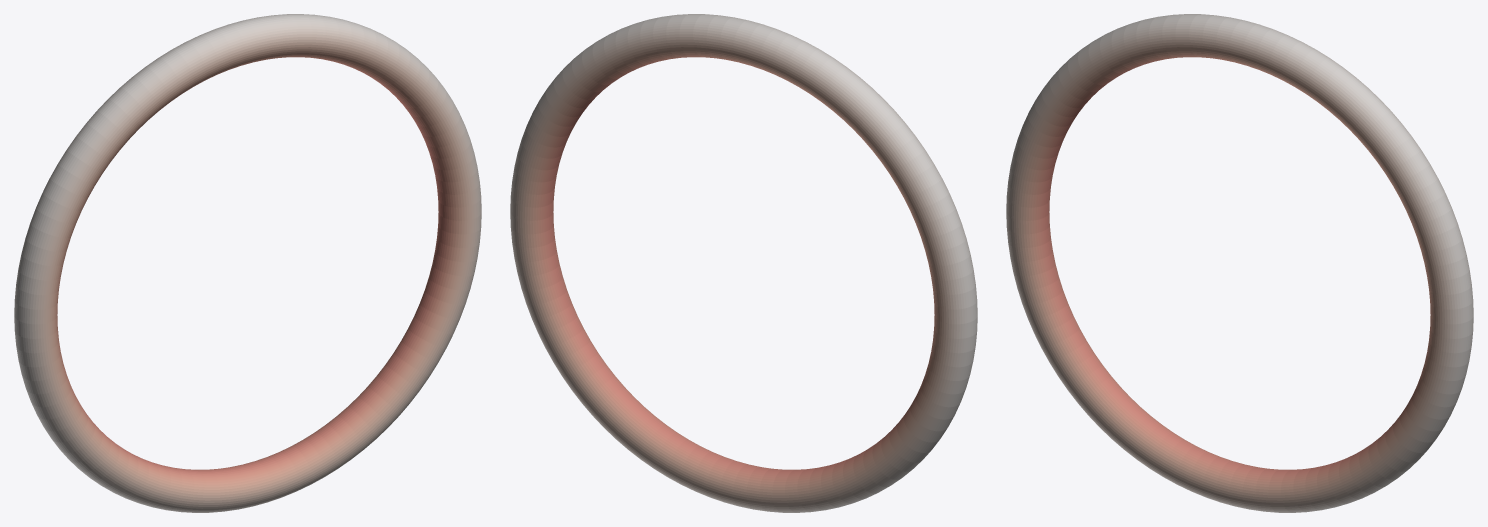
3 views of the same model, side by side, from view 1: azimuth 30°, elevation 25°; view 2: azimuth 150°, elevation 25°; view 3: azimuth 330°, elevation 25° (orthographic).
Visible parts, largest first — view 1: world; view 2: world; view 3: world.
Boxes of the visible parts, x1,y1,x2,y2 form: world: [14, 14, 481, 512]; world: [510, 14, 977, 512]; world: [1006, 14, 1473, 512].
Size of the model in its own units: 24.67 by 24.67 by 2.
